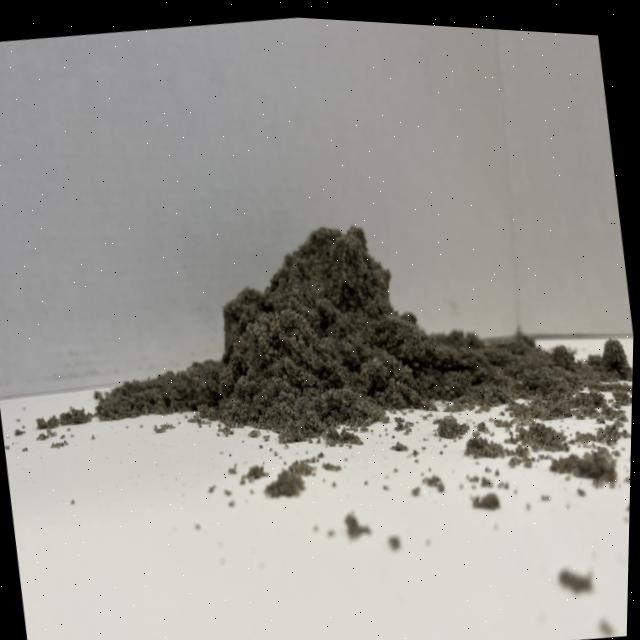sand: (104, 155, 616, 487)
